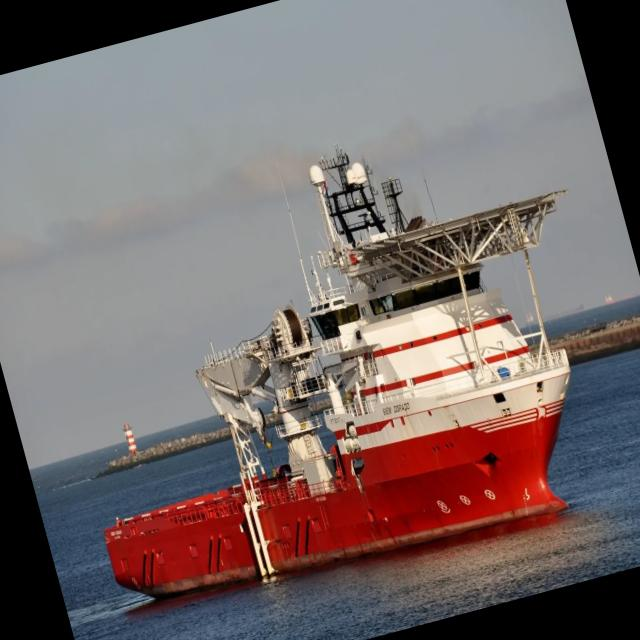Offshore: (104, 149, 569, 597)
